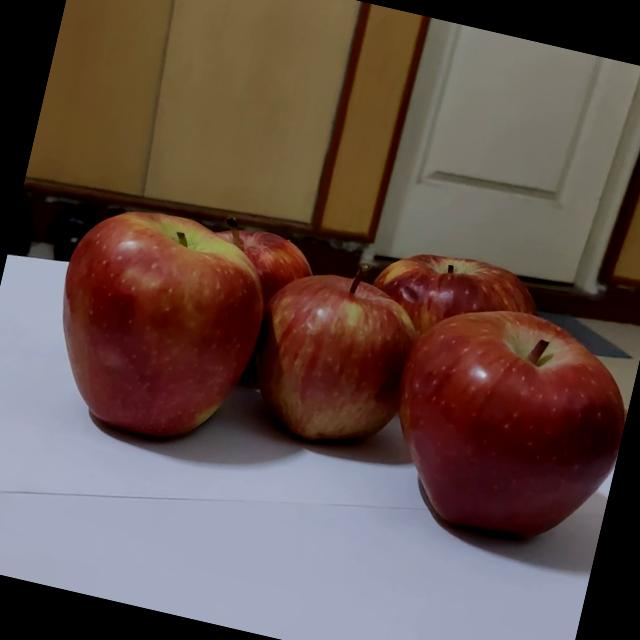apple: (339, 310, 622, 603), (349, 262, 582, 488), (13, 224, 238, 454), (190, 283, 390, 483), (189, 220, 358, 384)
